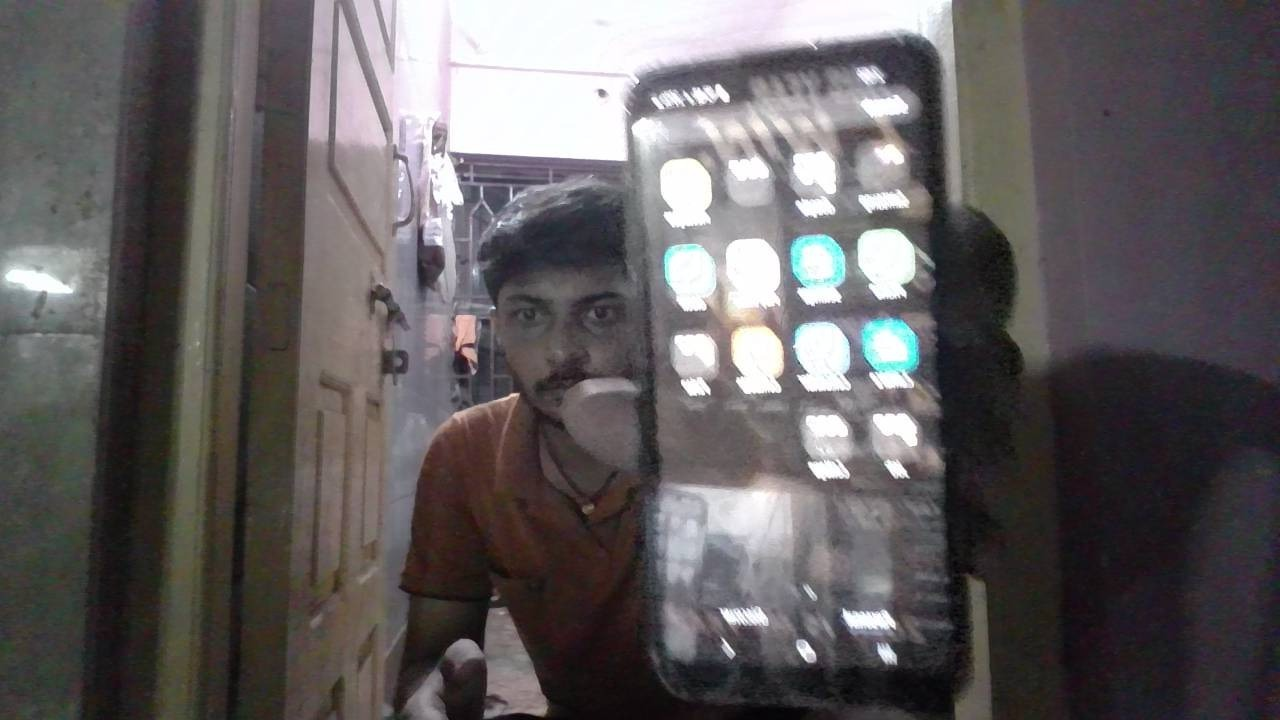red_box: (422, 427, 568, 559)
